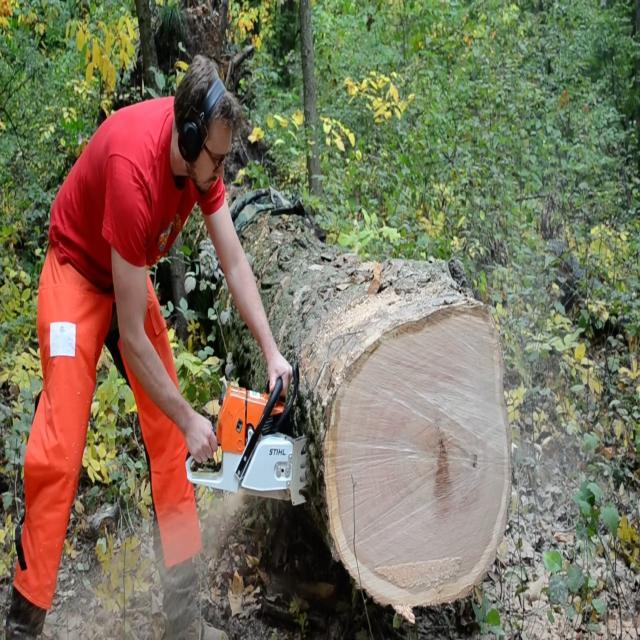Chainsaw: (164, 362, 318, 509)
